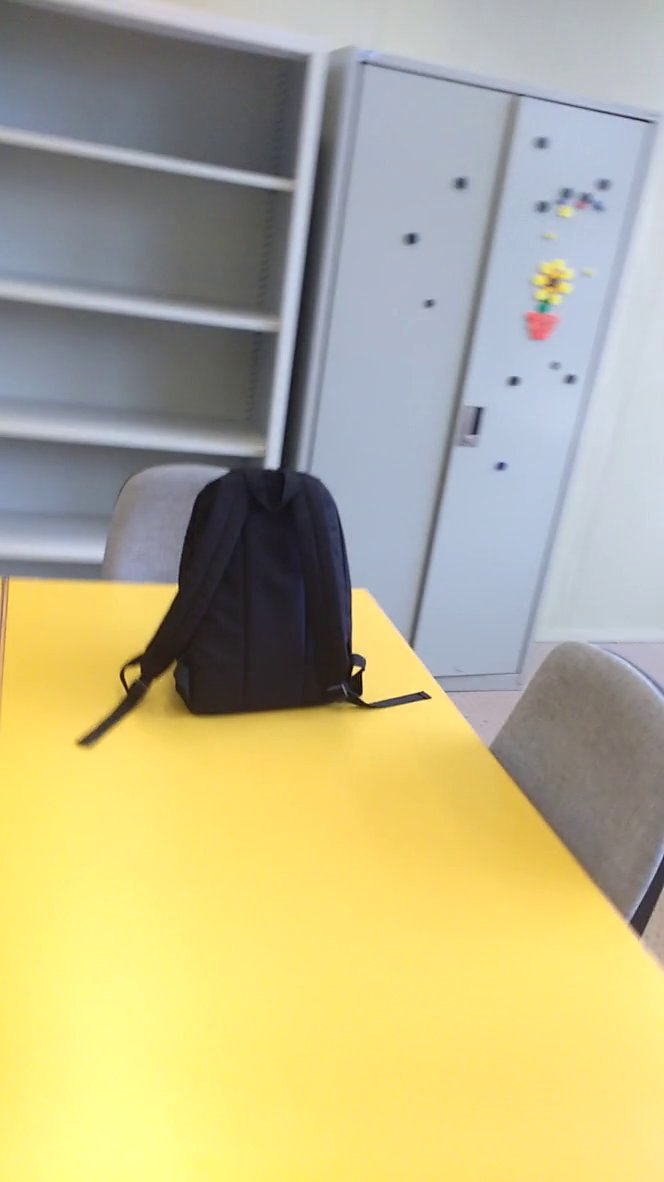bag: (76, 457, 434, 751)
chair: (446, 618, 664, 943)
